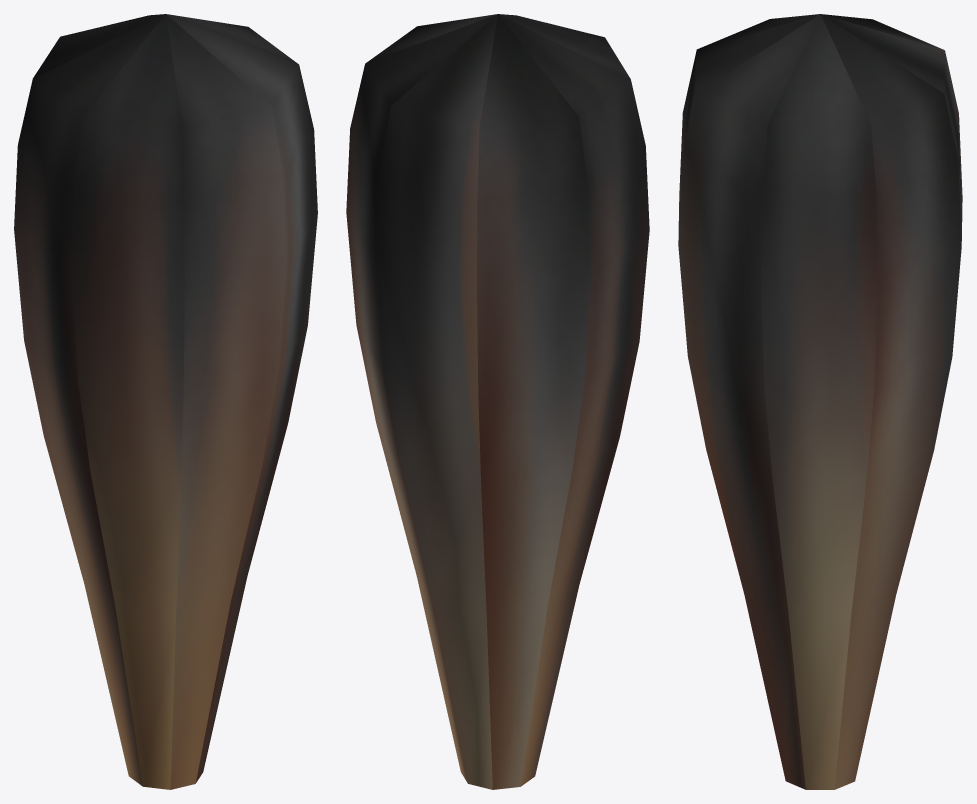
Rendered from eng_plumes_02.fbx.
3 renders of one model, left to right at view 1: azimuth 30°, elevation 25°; view 2: azimuth 150°, elevation 25°; view 3: azimuth 270°, elevation 25°, orthographic.
Visible parts, largest first — view 1: eng_plume_02; view 2: eng_plume_02; view 3: eng_plume_02.
Part boxes in pixels (x1=…): eng_plume_02: x1=14, y1=14, x2=317, y2=789; eng_plume_02: x1=346, y1=14, x2=649, y2=789; eng_plume_02: x1=678, y1=14, x2=962, y2=789.
Size of the model in its own units: 7.11 by 21.02 by 7.11.
